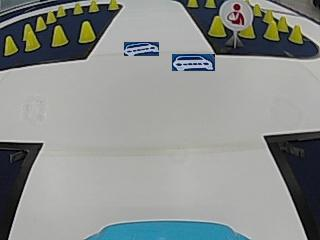cone: (208, 15, 226, 37), (24, 26, 40, 50), (79, 21, 96, 43), (52, 25, 68, 46), (264, 19, 279, 40), (289, 24, 303, 43), (4, 36, 18, 54), (35, 15, 47, 30), (72, 2, 83, 15), (88, 0, 99, 13), (107, 0, 118, 10), (46, 11, 56, 22), (56, 6, 66, 16), (204, 0, 216, 8), (187, 0, 199, 8)
patient: (222, 1, 250, 27)
